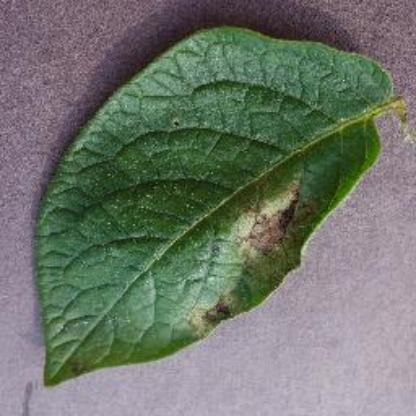Late-Blight: (22, 12, 404, 402)
